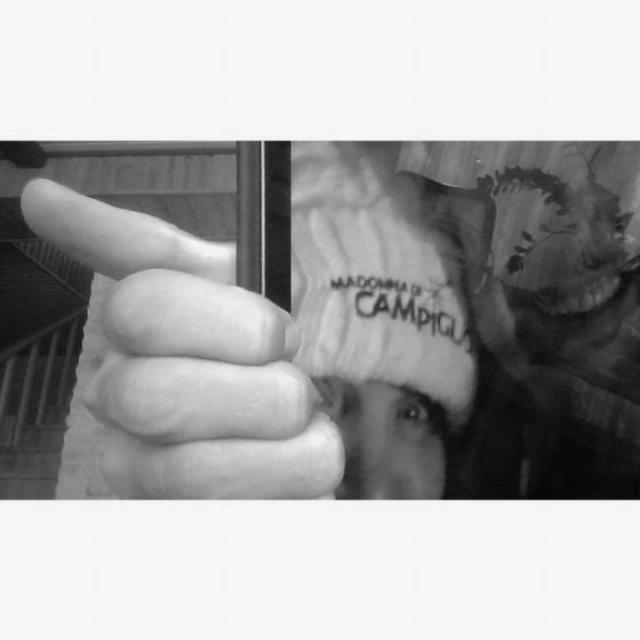fake: (256, 140, 638, 500)
